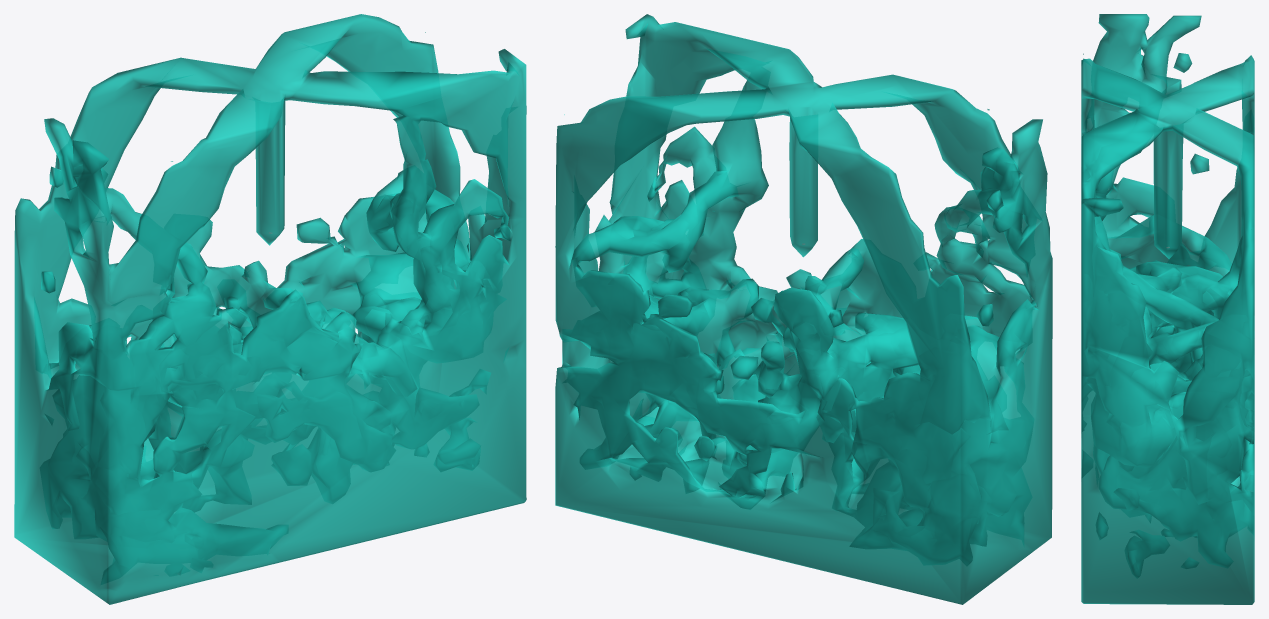
The picture shows the model from 3 angles, left to right: view 1: azimuth 30°, elevation 25°; view 2: azimuth 150°, elevation 25°; view 3: azimuth 270°, elevation 25°; orthographic projection. The views are drawn at different scales.
Parts seen in each view (by area): view 1: Liquid_Domain; view 2: Liquid_Domain; view 3: Liquid_Domain.
Part boxes in pixels (x1,y1,x2,y2): Liquid_Domain: [14, 14, 526, 604]; Liquid_Domain: [555, 14, 1052, 604]; Liquid_Domain: [1081, 14, 1254, 604].
Bounding box in the file's own units: 884 × 884 × 344.
